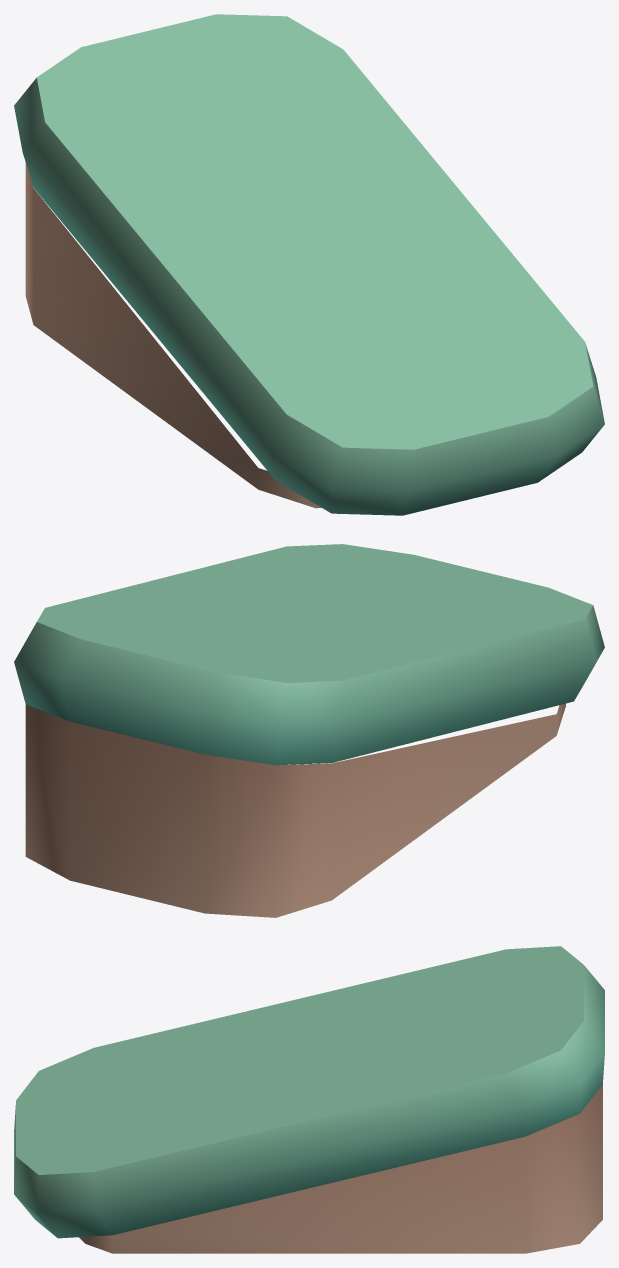
The model's file is ramp.glb.
3 views of the same model, one above another, from view 1: azimuth 30°, elevation 25°; view 2: azimuth 150°, elevation 25°; view 3: azimuth 270°, elevation 25° (orthographic). The views are drawn at different scales.
Visible parts, largest first — view 1: ramp; view 2: ramp; view 3: ramp.
Boxes of the visible parts, box(x1,y1,x2,y2) form: ramp: box(14, 14, 604, 515); ramp: box(14, 544, 604, 917); ramp: box(14, 946, 604, 1253).
Size of the model in its own units: 1.08 by 0.7466 by 2.01.
